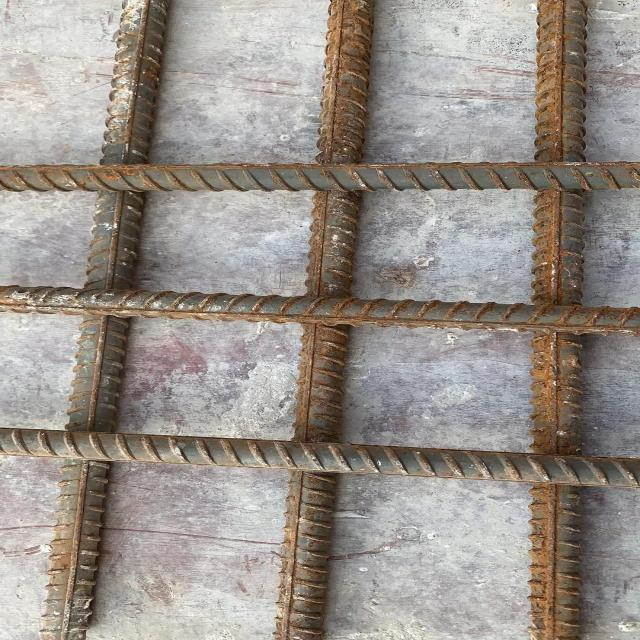ribbed bar: (37, 0, 175, 639), (272, 0, 380, 639), (1, 426, 640, 490), (528, 0, 592, 639), (1, 286, 640, 336), (1, 162, 640, 192)
